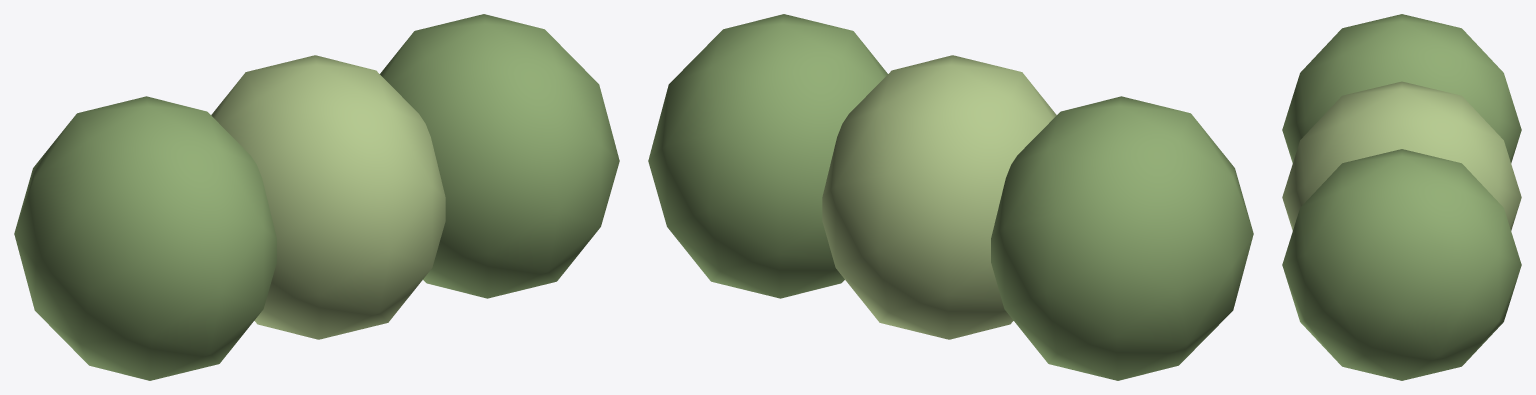
Rendered from bush.glb.
3 renders of one model, left to right at view 1: azimuth 30°, elevation 25°; view 2: azimuth 150°, elevation 25°; view 3: azimuth 270°, elevation 25°, orthographic. The views are drawn at different scales.
Parts seen in each view (by area): view 1: surface_#8da970, surface_#b0c58a; view 2: surface_#8da970, surface_#b0c58a; view 3: surface_#8da970, surface_#b0c58a.
Boxes of the visible parts, x1,y1,x2,y2 form: surface_#8da970: (14, 14, 619, 380); surface_#b0c58a: (211, 55, 445, 339); surface_#8da970: (648, 14, 1253, 380); surface_#b0c58a: (822, 55, 1056, 339); surface_#8da970: (1282, 14, 1521, 380); surface_#b0c58a: (1282, 81, 1521, 230).
Size of the model in its own units: 2 by 0.9 by 0.9.
